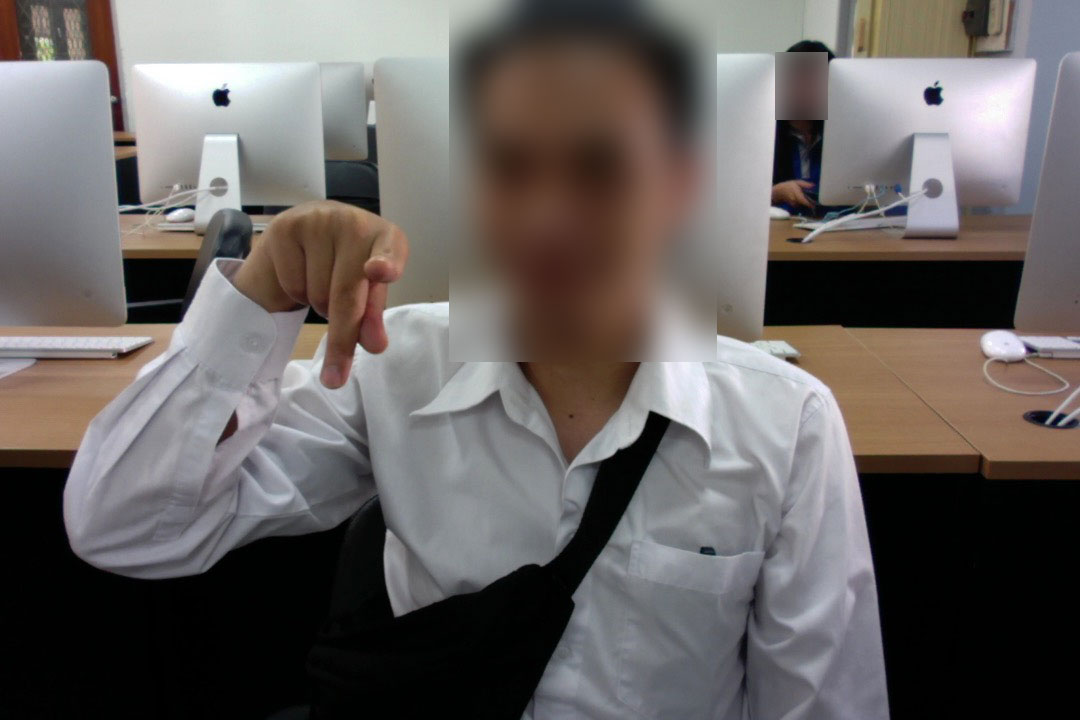por: (258, 195, 416, 395)
